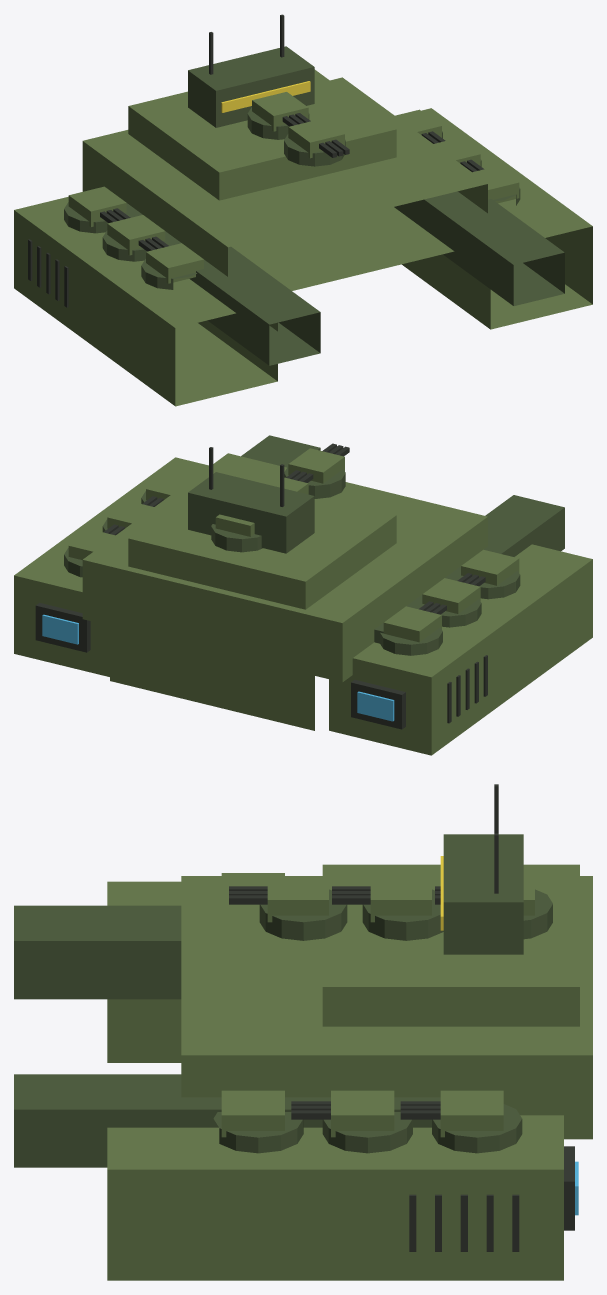
File: heavy_stern.obj
3 renders of one model, top to bottom at view 1: azimuth 30°, elevation 25°; view 2: azimuth 150°, elevation 25°; view 3: azimuth 270°, elevation 25°, orthographic. The views are drawn at different scales.
Bounding box in the file's own units: 5.34 × 2.8 × 4.5.
6 materials, 6 textured.
